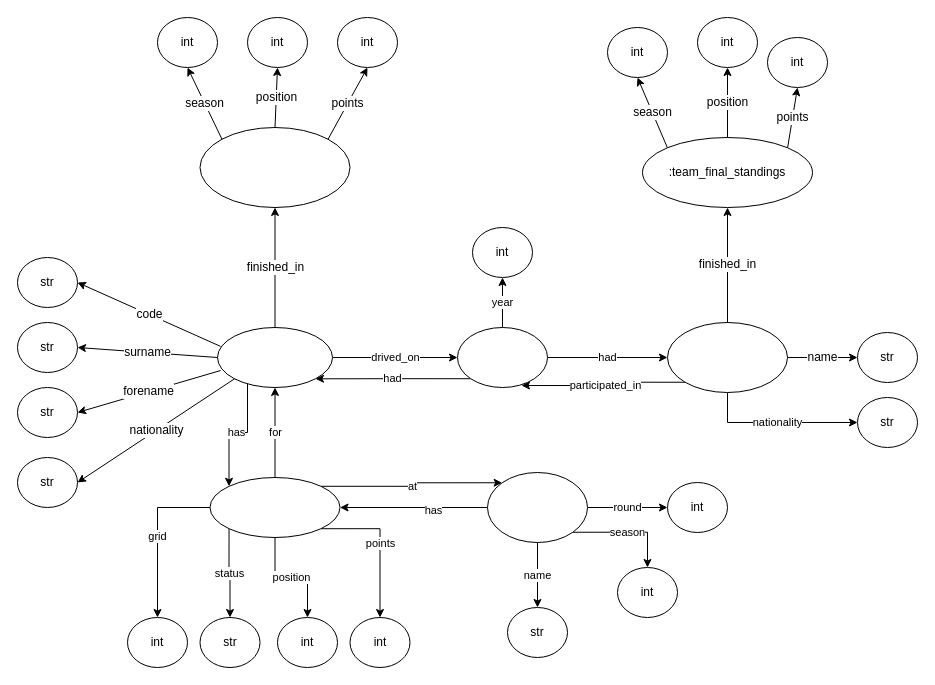
The diagram is 935 pixels wide and 685 high, and some of its shapes have lost their labels. Each missing label, with the centre of its shape:
":driver" belongs at pixel 274 357.
":driver_final_standings" belongs at pixel 274 167.
":driver_standing" belongs at pixel 274 507.
":race" belongs at pixel 537 507.
":season" belongs at pixel 502 357.
":team" belongs at pixel 727 357.
